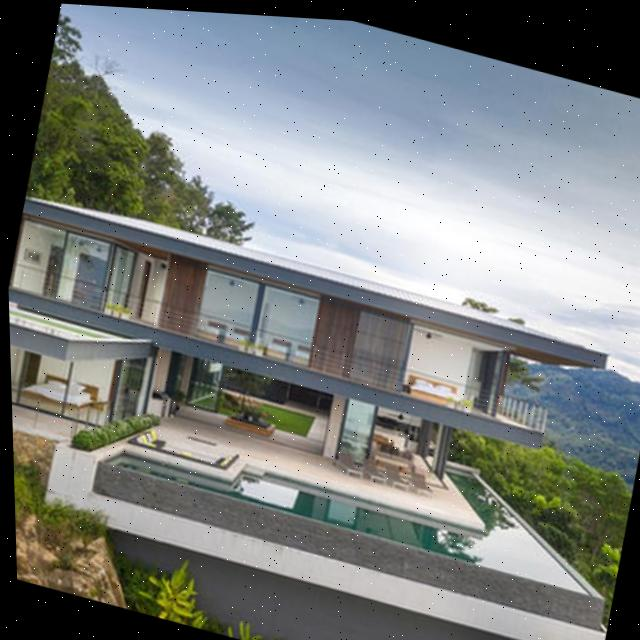building: (5, 185, 620, 561)
